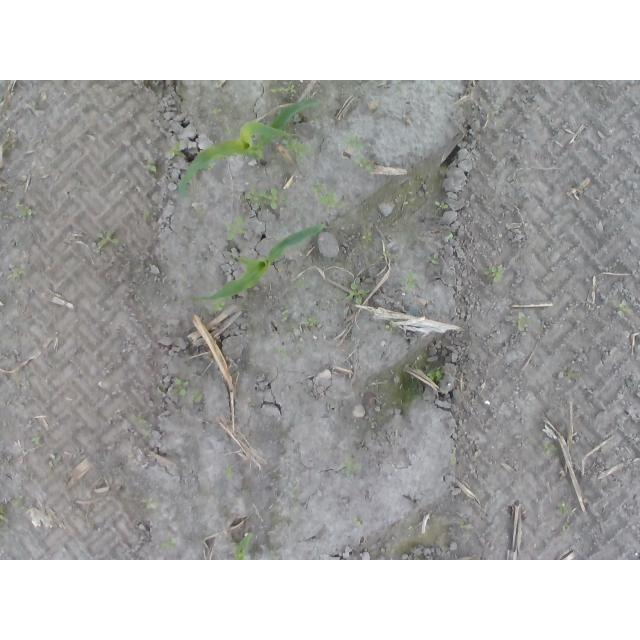Maize: (178, 99, 322, 198), (191, 222, 328, 303)
Weeds: (245, 188, 281, 208), (126, 412, 150, 437), (227, 220, 249, 245), (314, 186, 340, 207), (235, 532, 253, 561), (285, 136, 311, 156), (555, 505, 573, 532), (96, 232, 118, 252), (340, 456, 360, 476), (349, 284, 369, 304), (484, 266, 505, 284), (2, 129, 16, 155), (347, 137, 365, 156), (164, 145, 186, 160), (402, 274, 422, 290), (519, 312, 533, 333), (270, 87, 299, 97), (543, 437, 557, 457), (172, 378, 189, 394), (275, 344, 290, 361), (160, 537, 177, 551), (19, 207, 35, 221), (618, 301, 632, 316), (211, 299, 226, 313), (141, 498, 157, 511), (399, 194, 417, 205), (567, 370, 582, 383), (9, 268, 24, 280), (359, 158, 374, 170), (0, 504, 8, 526), (303, 316, 317, 328), (221, 467, 232, 481), (385, 322, 396, 333), (427, 252, 437, 264), (430, 370, 443, 379), (436, 84, 449, 93), (144, 208, 153, 221), (210, 108, 223, 117), (280, 309, 288, 323), (157, 387, 168, 397), (443, 234, 455, 243), (451, 453, 458, 467), (193, 388, 202, 398), (363, 230, 373, 239), (437, 202, 448, 210), (50, 454, 59, 463), (354, 520, 363, 529), (32, 437, 41, 446), (11, 500, 21, 508), (460, 522, 470, 530), (380, 252, 388, 261), (491, 109, 501, 116), (147, 164, 155, 172)
